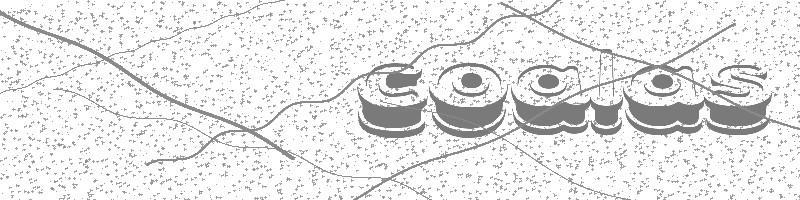a: (623, 62, 704, 136), (511, 62, 590, 136)
c: (355, 61, 427, 139)
l: (590, 46, 623, 136)
o: (429, 62, 509, 140)
s: (704, 63, 773, 137)
